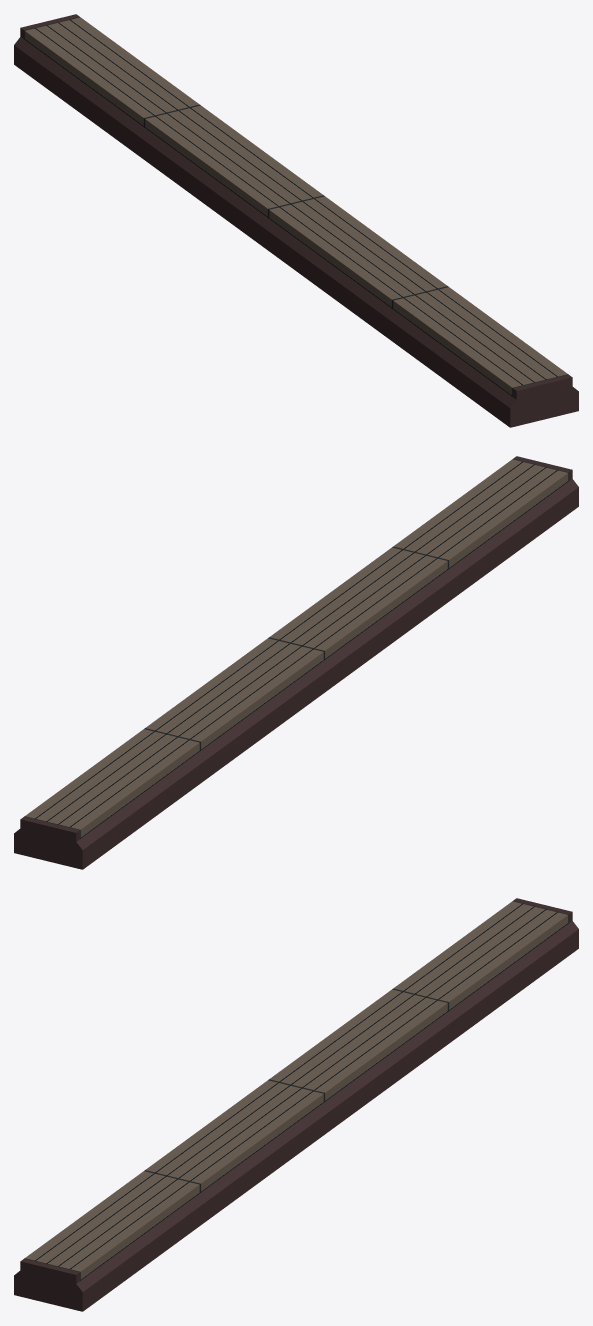
File: SW_ENV_EL_TrackBase_Walkway_Central_20m.fbx
3 renders of one model, top to bottom at view 1: azimuth 30°, elevation 25°; view 2: azimuth 150°, elevation 25°; view 3: azimuth 330°, elevation 25°, orthographic.
Visible parts, largest first — view 1: SW_ENV_EL_TrackBase_Walkway_Central_20m; view 2: SW_ENV_EL_TrackBase_Walkway_Central_20m; view 3: SW_ENV_EL_TrackBase_Walkway_Central_20m.
Part boxes in pixels (<box>): SW_ENV_EL_TrackBase_Walkway_Central_20m: <box>14,14,578,427</box>; SW_ENV_EL_TrackBase_Walkway_Central_20m: <box>14,456,578,869</box>; SW_ENV_EL_TrackBase_Walkway_Central_20m: <box>14,898,578,1311</box>.
Size of the model in its own units: 160 by 78.5 by 2000.
